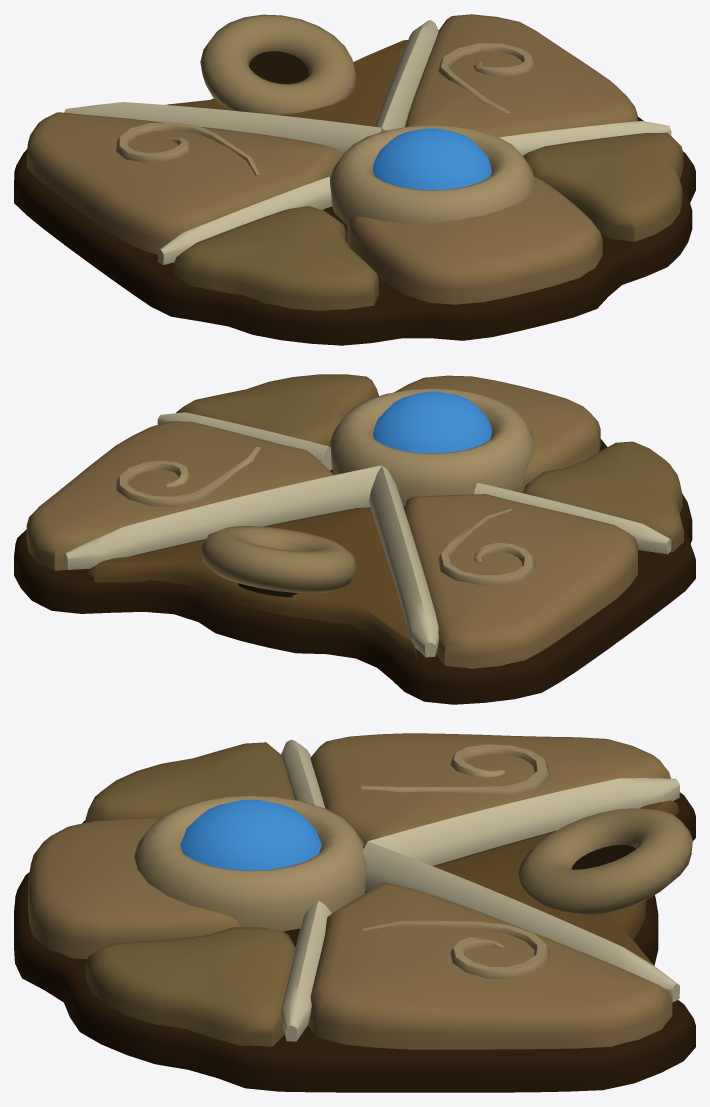
Rendered from ornament.glb.
The picture shows the model from 3 angles, top to bottom: view 1: azimuth 30°, elevation 25°; view 2: azimuth 150°, elevation 25°; view 3: azimuth 270°, elevation 25°; orthographic projection. The views are drawn at different scales.
Visible parts, largest first — view 1: plate, wing_l, lower_centre, wing_r, lower_l, lower_r, loop, bezel, arm_l, gem, top_centre, lower_arm_l (+5 smaller); view 2: plate, wing_l, wing_r, top_centre, bezel, arm_r, lower_l, loop, lower_r, lower_centre, gem, arm_l (+4 smaller); view 3: wing_r, plate, wing_l, lower_r, lower_centre, bezel, loop, arm_l, lower_l, arm_r, gem, top_centre (+5 smaller).
Part boxes in pixels (left/top/right/bottom): plate: left=14, top=116, right=695, bottom=345; wing_l: left=26, top=112, right=343, bottom=254; lower_centre: left=347, top=176, right=602, bottom=304; wing_r: left=405, top=14, right=637, bottom=137; lower_l: left=173, top=206, right=378, bottom=310; lower_r: left=523, top=132, right=683, bottom=241; loop: left=200, top=14, right=357, bottom=114; bezel: left=330, top=125, right=534, bottom=224; arm_l: left=64, top=102, right=381, bottom=152; gem: left=373, top=128, right=491, bottom=190; top_centre: left=165, top=40, right=407, bottom=126; lower_arm_l: left=157, top=176, right=332, bottom=264; plate: left=14, top=439, right=695, bottom=704; wing_l: left=404, top=494, right=637, bottom=668; wing_r: left=26, top=421, right=333, bottom=570; top_centre: left=86, top=507, right=416, bottom=662; bezel: left=330, top=388, right=535, bottom=506; arm_r: left=63, top=465, right=381, bottom=569; lower_l: left=523, top=441, right=683, bottom=552; loop: left=200, top=526, right=357, bottom=593; lower_r: left=176, top=374, right=378, bottom=446; lower_centre: left=394, top=375, right=600, bottom=493; gem: left=373, top=391, right=491, bottom=453; arm_l: left=369, top=465, right=439, bottom=657; wing_r: left=308, top=882, right=672, bottom=1049; plate: left=14, top=792, right=695, bottom=1092; wing_l: left=310, top=733, right=670, bottom=843; lower_r: left=85, top=927, right=295, bottom=1046; lower_centre: left=28, top=817, right=240, bottom=959; bezel: left=134, top=795, right=366, bottom=931; loop: left=518, top=808, right=692, bottom=914; arm_l: left=362, top=778, right=679, bottom=865; lower_l: left=85, top=742, right=294, bottom=822; arm_r: left=362, top=841, right=679, bottom=1002; gem: left=180, top=799, right=321, bottom=870; top_centre: left=433, top=800, right=678, bottom=966.
Bounding box in the file's own units: 23.9 × 4.9 × 22.78.
